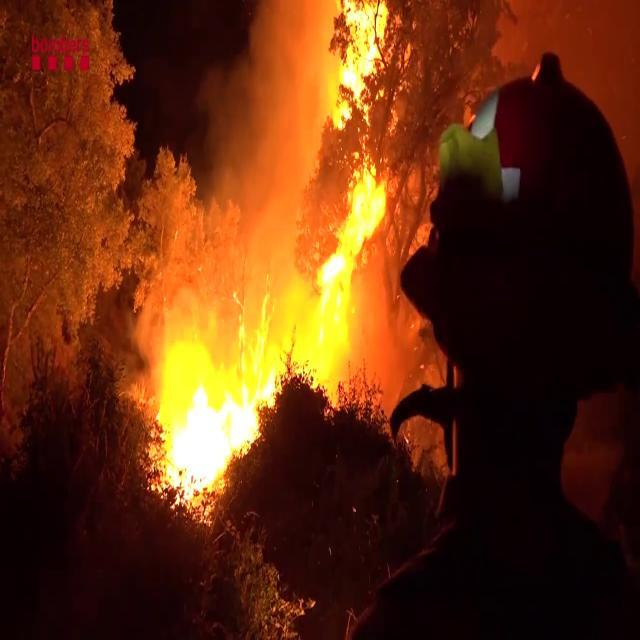Fire: (288, 137, 426, 357), (154, 311, 282, 501), (326, 0, 400, 124)
Smoke: (200, 0, 326, 255)
